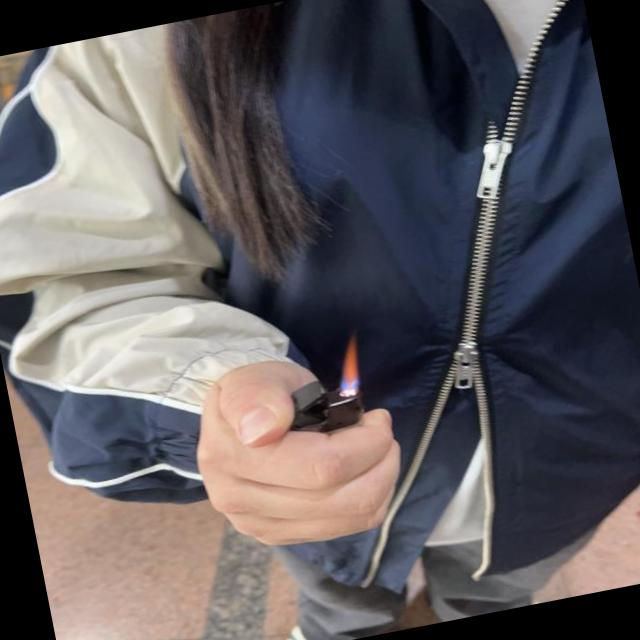Fire: (326, 338, 366, 390)
